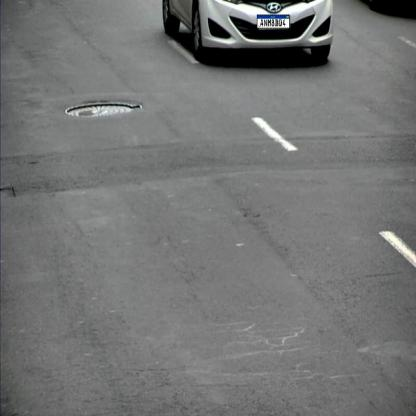PlacaM: (257, 14, 290, 28)
